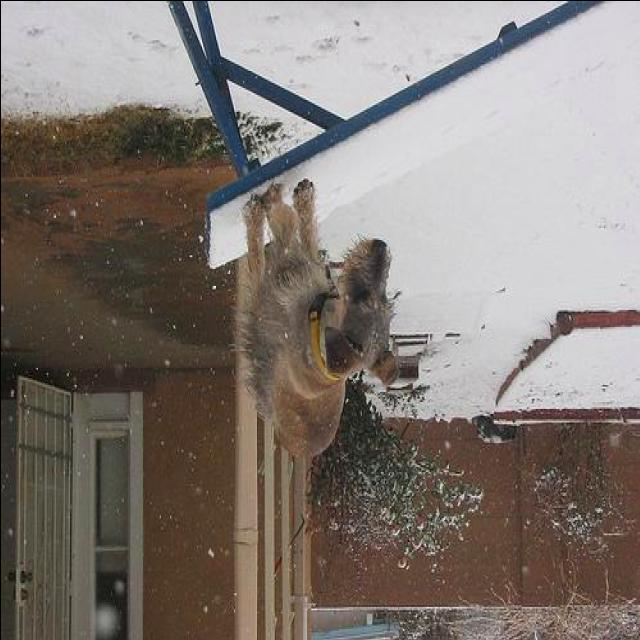standard_schnauzer: (240, 174, 396, 460)
